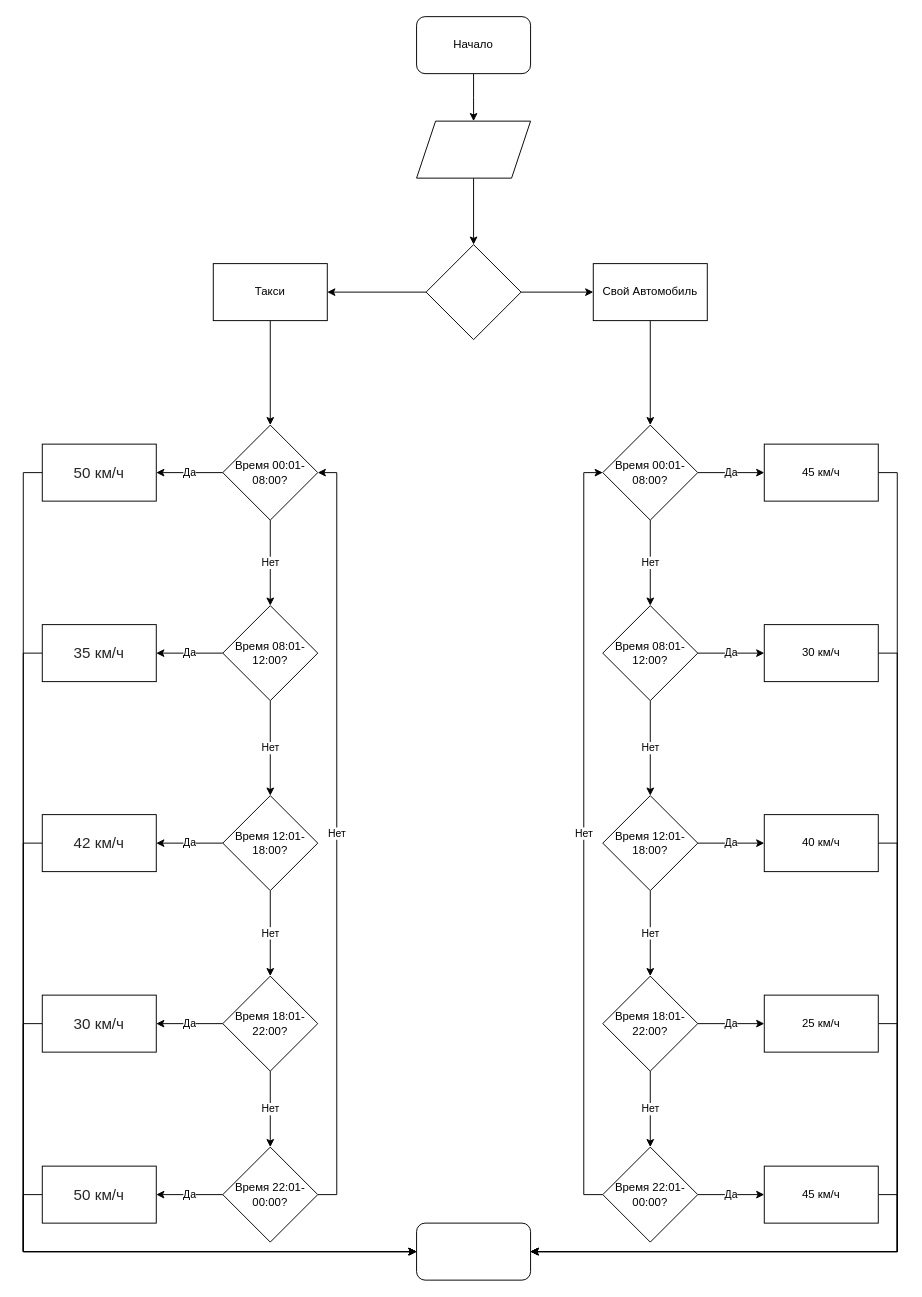
Image size: 922x1297. Some labels were removed from this diagram. Here are the shapes that lost their labels. From the top down, the box of each, then its label:
(416, 120, 531, 178): Время начало поездки
(425, 244, 521, 340): Выбор транспорта
(416, 1222, 531, 1280): Конец
